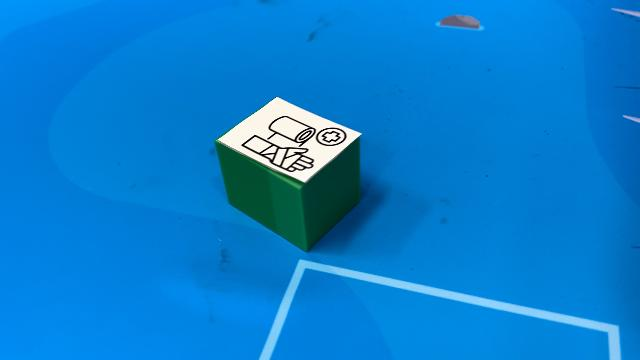bandage: (214, 96, 362, 252)
